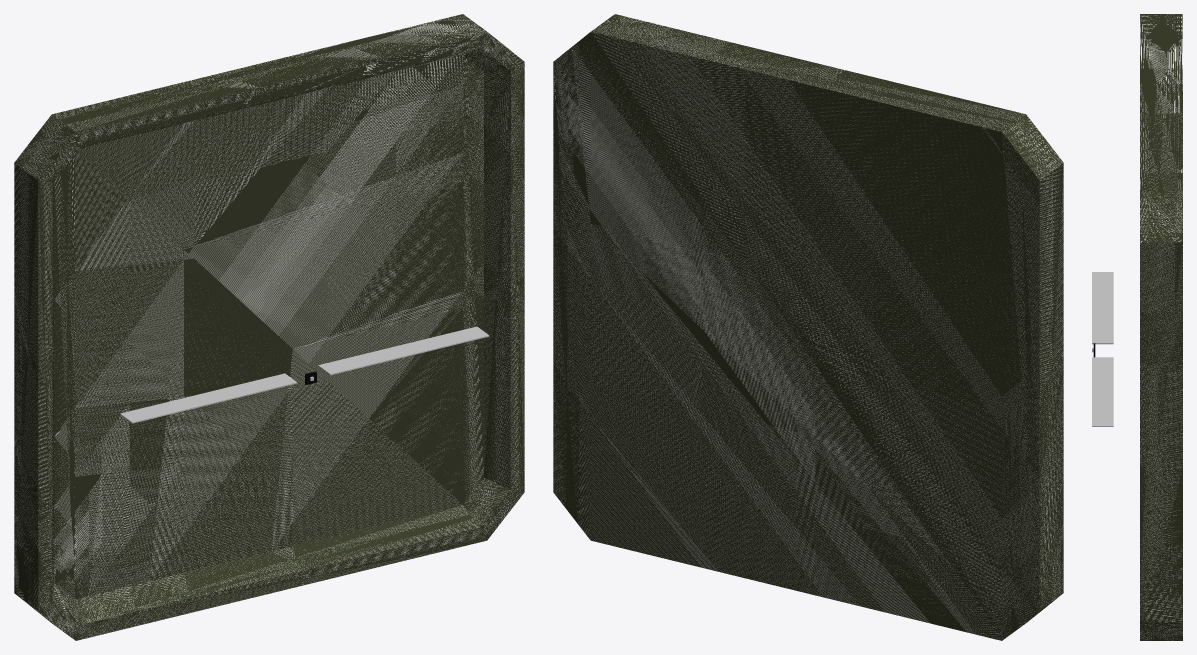
3 renders of one model, left to right at view 1: azimuth 30°, elevation 25°; view 2: azimuth 150°, elevation 25°; view 3: azimuth 270°, elevation 25°, orthographic. The views are drawn at different scales.
Visible parts, largest first — view 1: Button.001_ID13, Button_ID3, SM_CM_-_Box_path1763-2.069; view 2: Button_ID3; view 3: Button_ID3, SM_CM_-_Box_path1763-2.069.
Part boxes in pixels (box(x1,y1,x2,y2)): Button.001_ID13: box(52, 48, 510, 624); Button_ID3: box(14, 14, 524, 640); SM_CM_-_Box_path1763-2.069: box(120, 326, 489, 423); Button_ID3: box(553, 14, 1063, 640); Button_ID3: box(1140, 14, 1182, 640); SM_CM_-_Box_path1763-2.069: box(1092, 272, 1113, 426).
Bounding box in the file's own units: 1 × 1 × 0.1832.
